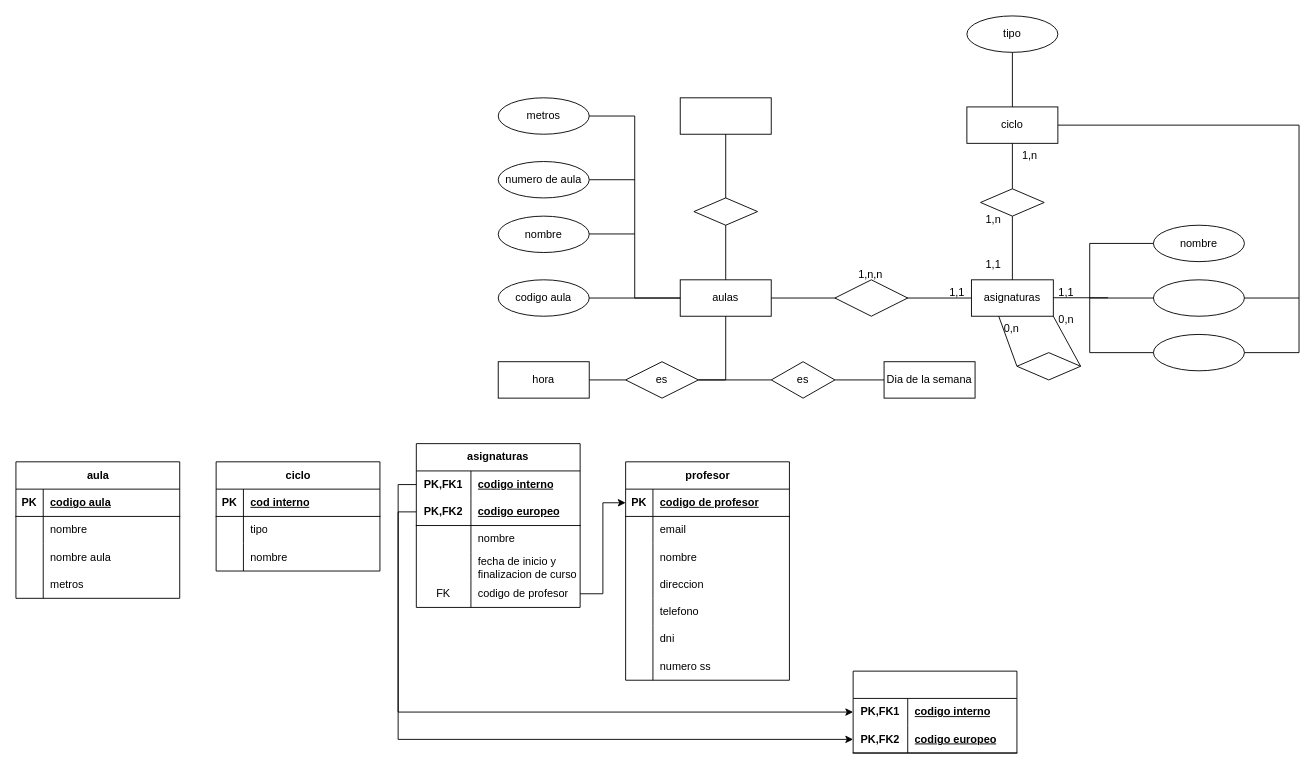
The diagram is 1316 pixels wide and 769 high, and some of its shapes have lost their labels. Each missing label, with the box of its shape:
codigoEuropeo: (1153, 334, 1244, 371)
codigoInterno: (1153, 279, 1244, 316)
colegio: (679, 97, 771, 134)
cursa: (1016, 352, 1081, 380)
ocupan: (834, 279, 908, 316)
pertenece: (980, 188, 1044, 216)
requiere: (852, 670, 1017, 753)
tiene: (693, 197, 758, 225)
